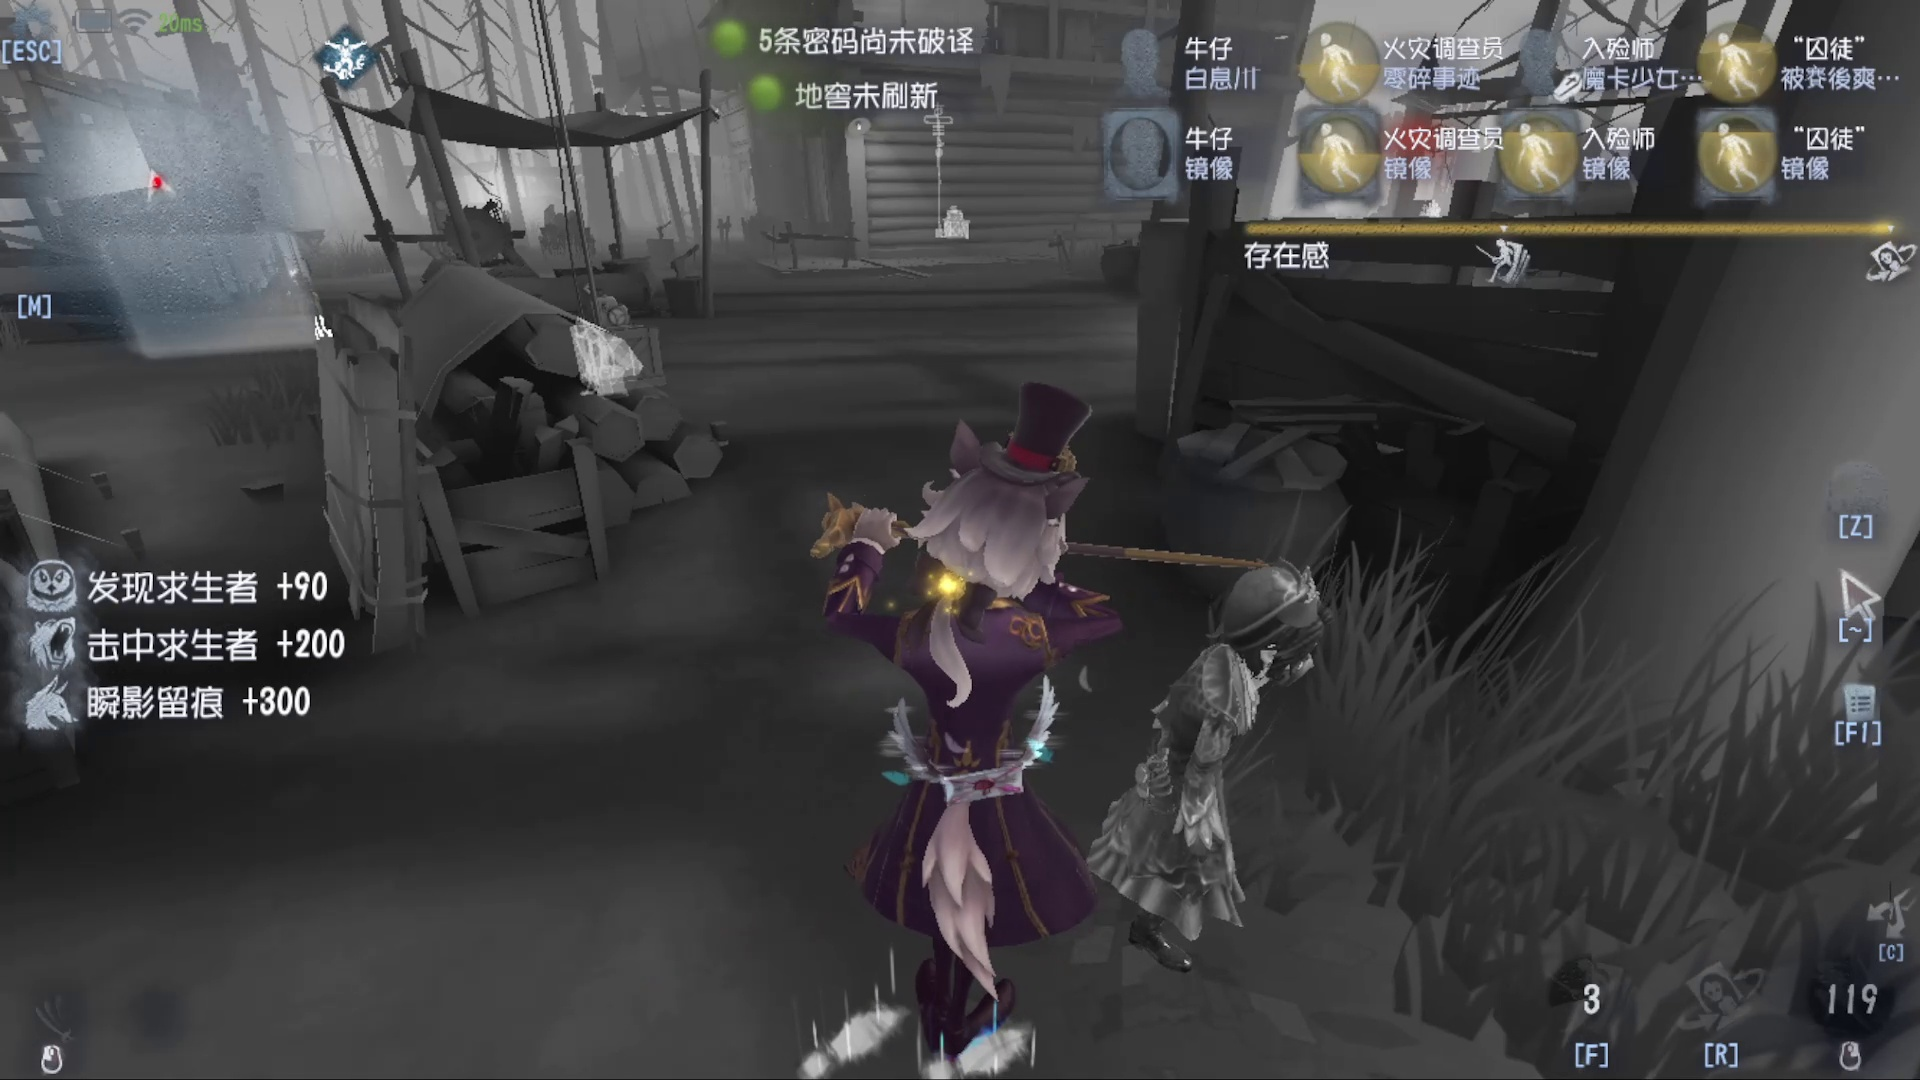密码机: (512, 84, 680, 415), (901, 94, 1004, 252)
求生者: (1106, 551, 1323, 961)
